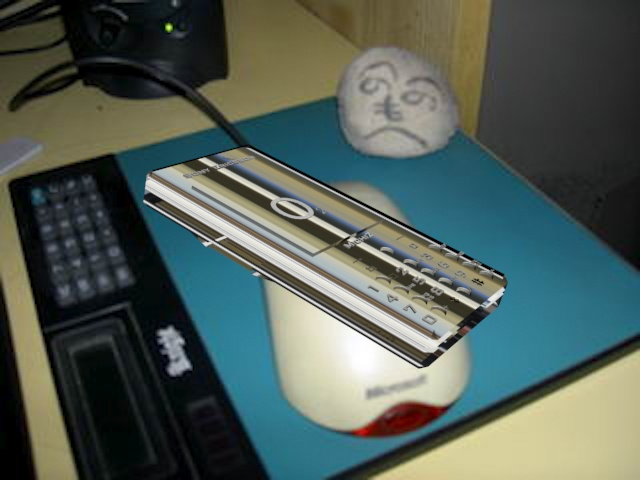mobile_phone: (137, 143, 512, 376)
